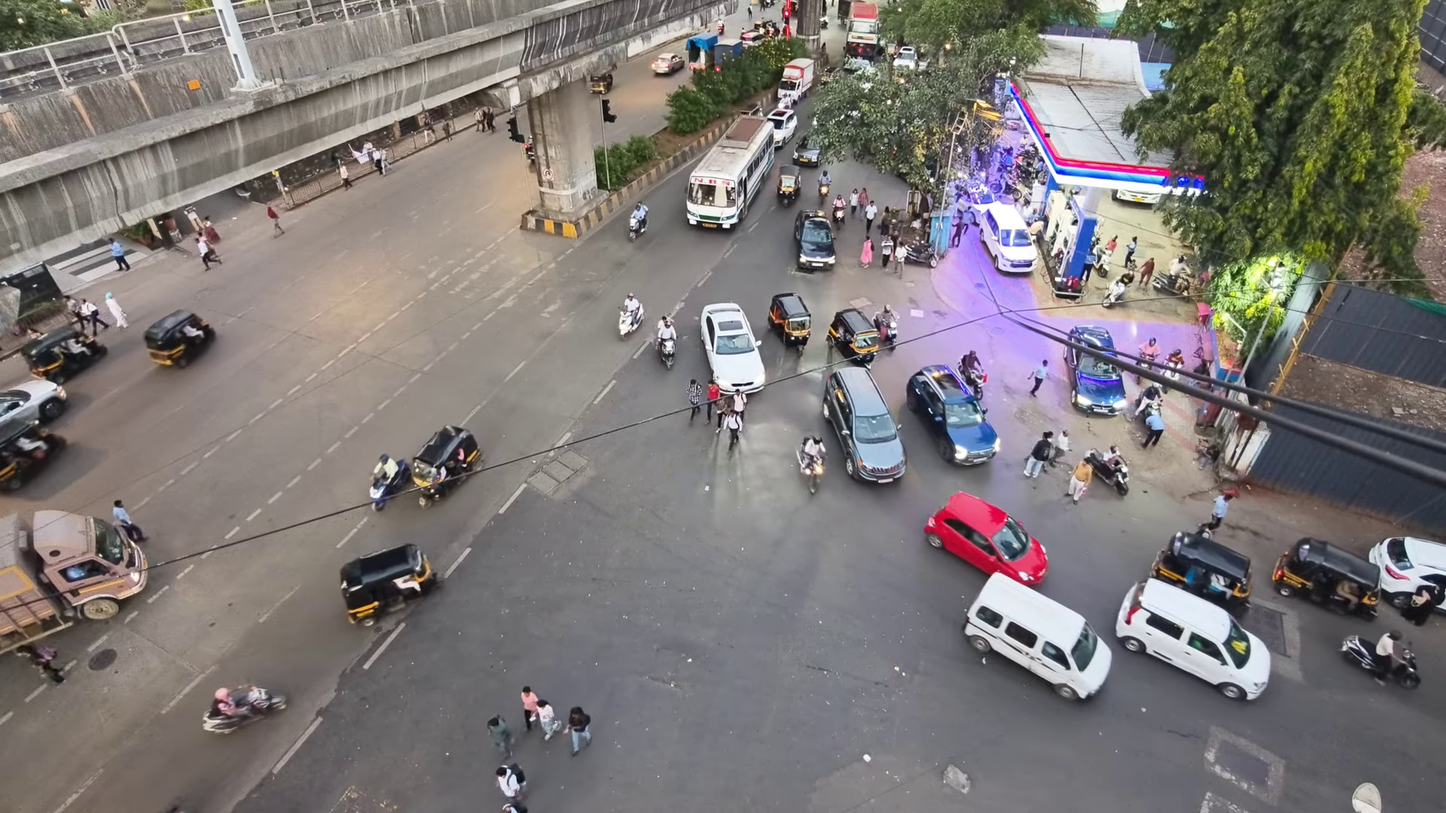driving: (0, 510, 146, 651), (963, 573, 1112, 699), (1115, 580, 1270, 699), (925, 492, 1048, 585), (685, 116, 774, 228), (822, 367, 906, 483), (906, 365, 1000, 464), (1272, 539, 1378, 619), (1151, 532, 1252, 614), (340, 543, 440, 625), (701, 303, 765, 393), (411, 425, 481, 507), (1065, 325, 1127, 416), (1367, 536, 1445, 607), (20, 325, 108, 383), (0, 422, 66, 491), (1341, 635, 1420, 689), (144, 309, 215, 367), (202, 686, 288, 733), (0, 378, 67, 425), (828, 308, 878, 366), (794, 210, 836, 269), (768, 292, 810, 351), (369, 455, 410, 510), (1084, 449, 1129, 495), (845, 2, 880, 59), (778, 59, 814, 106), (796, 440, 825, 493), (956, 351, 987, 400), (767, 108, 797, 148), (685, 34, 718, 70), (895, 241, 939, 267), (874, 305, 898, 348), (776, 165, 801, 206), (792, 132, 821, 166), (713, 38, 744, 69), (618, 304, 644, 339), (650, 52, 685, 75), (892, 46, 918, 70), (657, 337, 676, 369), (590, 72, 613, 93)
walking: (17, 644, 64, 684), (1401, 584, 1445, 626), (1199, 489, 1237, 531), (113, 500, 145, 541), (1024, 431, 1052, 477), (1066, 459, 1093, 503), (567, 706, 591, 755), (487, 715, 512, 758), (496, 764, 525, 801), (538, 699, 562, 741), (81, 299, 109, 334), (105, 292, 128, 328), (1142, 410, 1164, 447), (520, 686, 538, 731), (197, 237, 222, 269), (64, 294, 84, 333), (687, 379, 703, 424), (706, 379, 721, 426), (723, 411, 741, 450), (1050, 430, 1069, 465), (109, 239, 130, 270), (1030, 361, 1048, 396), (731, 391, 746, 428), (949, 214, 965, 247), (267, 206, 284, 236), (1139, 257, 1155, 287), (880, 235, 893, 269), (1123, 237, 1137, 268), (864, 202, 877, 235), (860, 236, 873, 267), (338, 164, 352, 190), (502, 800, 527, 812), (849, 188, 859, 217), (474, 108, 485, 132), (859, 187, 870, 209)
